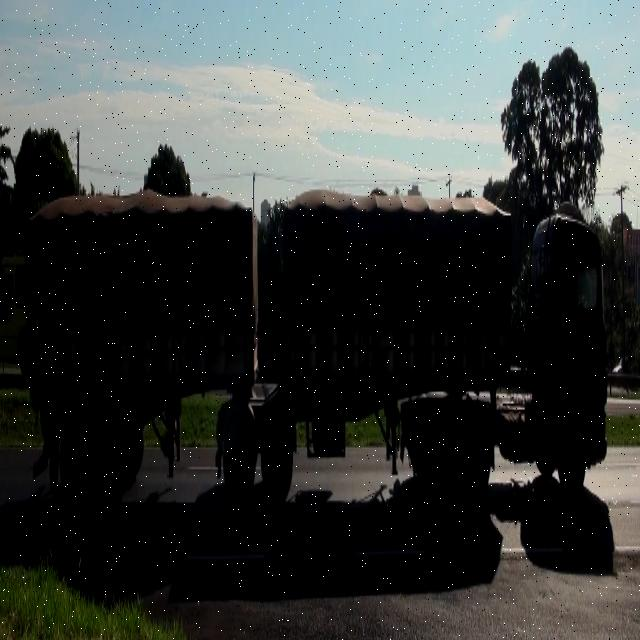-axle: (222, 406, 258, 511), (458, 404, 492, 506), (94, 414, 128, 509), (421, 408, 455, 502), (261, 408, 294, 503), (60, 416, 90, 507), (559, 408, 588, 497)
